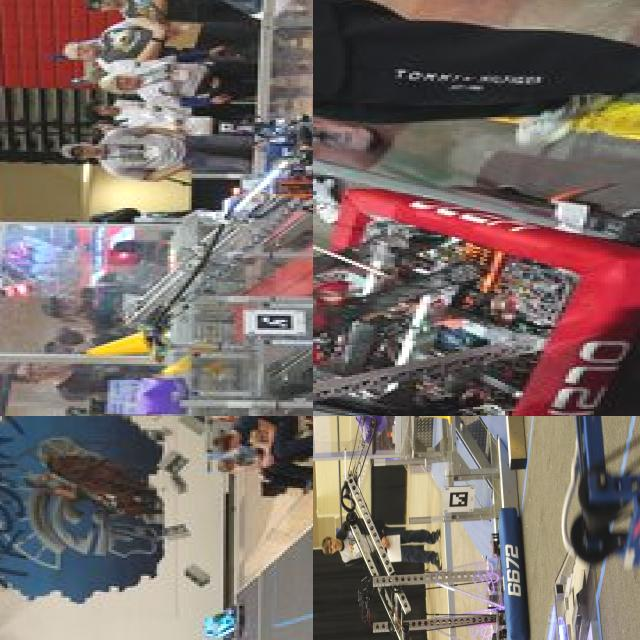FRC-Robots: (313, 128, 617, 416), (109, 82, 313, 334), (319, 474, 534, 640), (192, 594, 252, 640)
